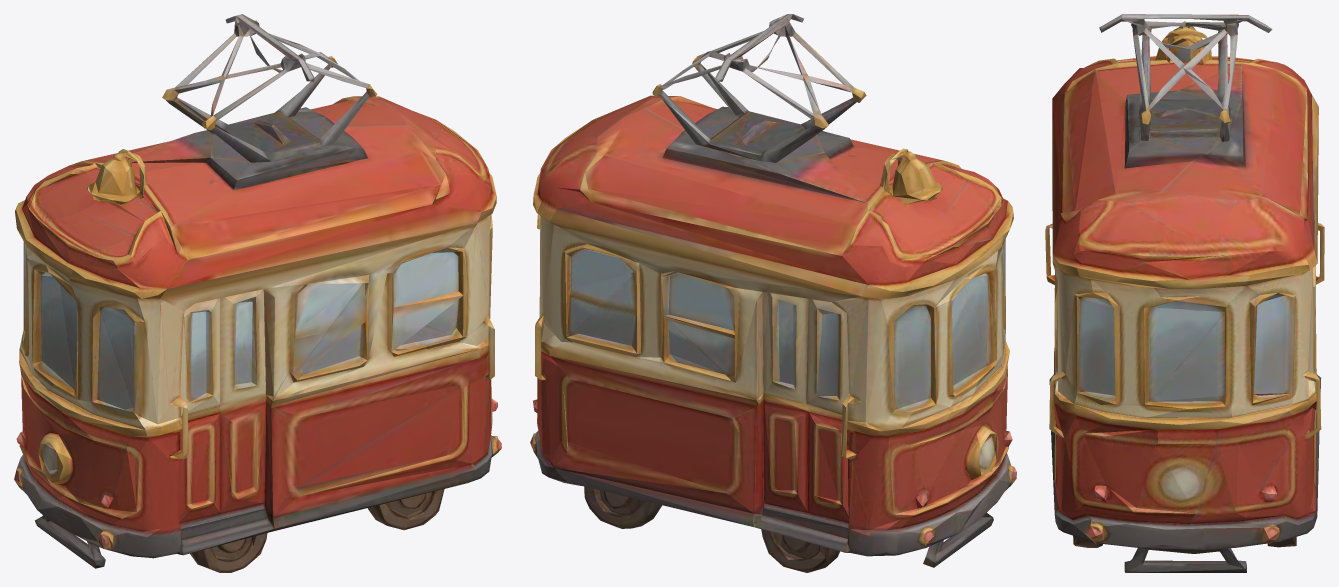
The model's file is tram.glb.
3 renders of one model, left to right at view 1: azimuth 30°, elevation 25°; view 2: azimuth 150°, elevation 25°; view 3: azimuth 270°, elevation 25°, orthographic.
Bounding box in the file's own units: 1.77 × 1.89 × 0.9897.
1 material, 1 textured.
